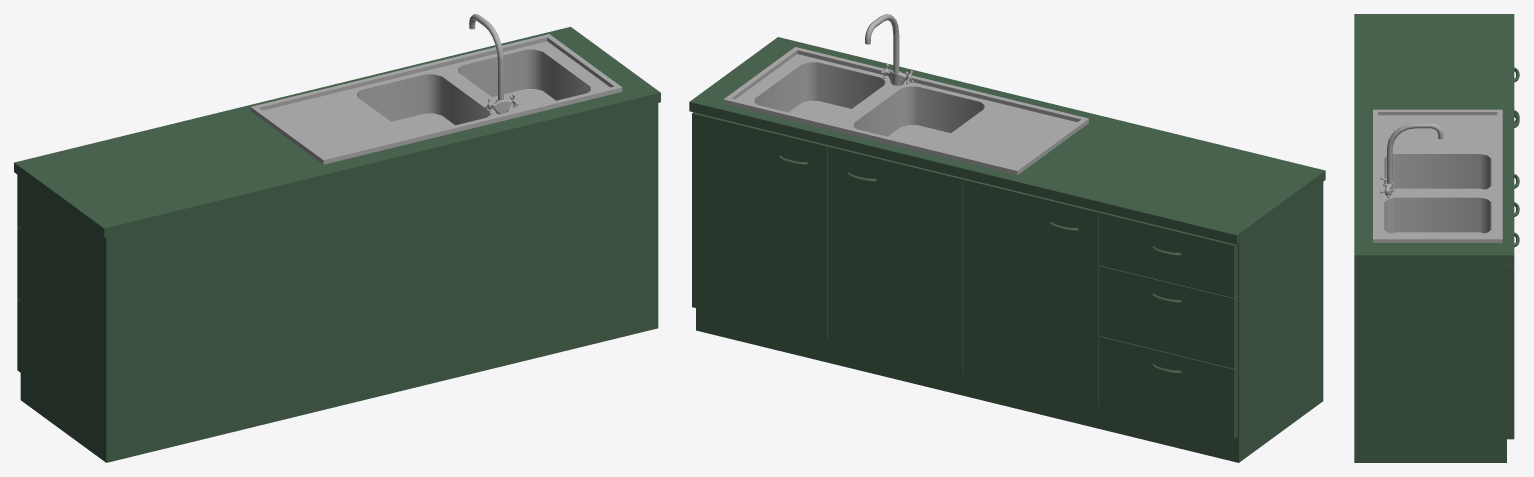
The model's file is FregaderoCocina_Low.fbx.
3 views of the same model, side by side, from view 1: azimuth 30°, elevation 25°; view 2: azimuth 150°, elevation 25°; view 3: azimuth 270°, elevation 25° (orthographic). The views are drawn at different scales.
Visible parts, largest first — view 1: BaseMueble_Low, Marmol_Low, Fregadero_Low, Grifo_Low; view 2: Marmol_Low, BaseMueble_Low, Puerta_02_Low, Puerta_03_Low, Puerta_01_Low, Fregadero_Low, Puerta_05_Low, Puerta_04_Low, Cajon_Low, Grifo_Low; view 3: BaseMueble_Low, Marmol_Low, Fregadero_Low, Puerta_01_Low, Grifo_Low.
Boxes of the visible parts, <box> form: BaseMueble_Low: <box>20,103,658,462</box>; Marmol_Low: <box>14,26,660,237</box>; Fregadero_Low: <box>250,34,622,164</box>; Grifo_Low: <box>469,14,503,100</box>; Marmol_Low: <box>689,37,1325,244</box>; BaseMueble_Low: <box>696,182,1323,462</box>; Puerta_02_Low: <box>827,145,964,372</box>; Puerta_03_Low: <box>963,178,1099,406</box>; Puerta_01_Low: <box>692,112,828,339</box>; Fregadero_Low: <box>723,47,1088,175</box>; Puerta_05_Low: <box>1099,265,1237,368</box>; Puerta_04_Low: <box>1099,336,1237,439</box>; Cajon_Low: <box>1099,211,1237,297</box>; Grifo_Low: <box>864,14,899,73</box>; BaseMueble_Low: <box>1354,264,1506,462</box>; Marmol_Low: <box>1354,14,1514,263</box>; Fregadero_Low: <box>1373,109,1502,242</box>; Puerta_01_Low: <box>1507,264,1514,439</box>; Grifo_Low: <box>1387,123,1443,183</box>.
Size of the model in its own units: 224 by 121 by 64.78.
